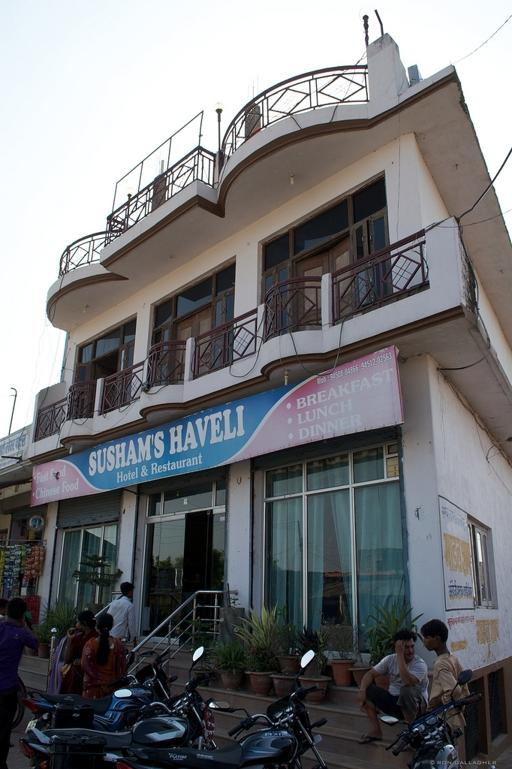non-vehicle: (96, 647, 328, 769), (18, 644, 220, 768), (16, 637, 177, 735), (377, 668, 484, 769), (11, 673, 26, 729)
